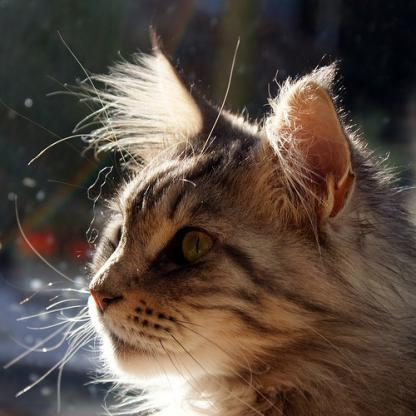cat: (87, 40, 415, 415)
